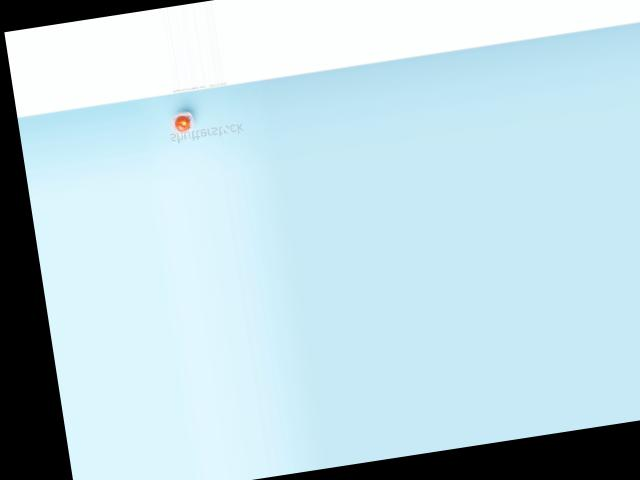tomato: (174, 114, 192, 132)
